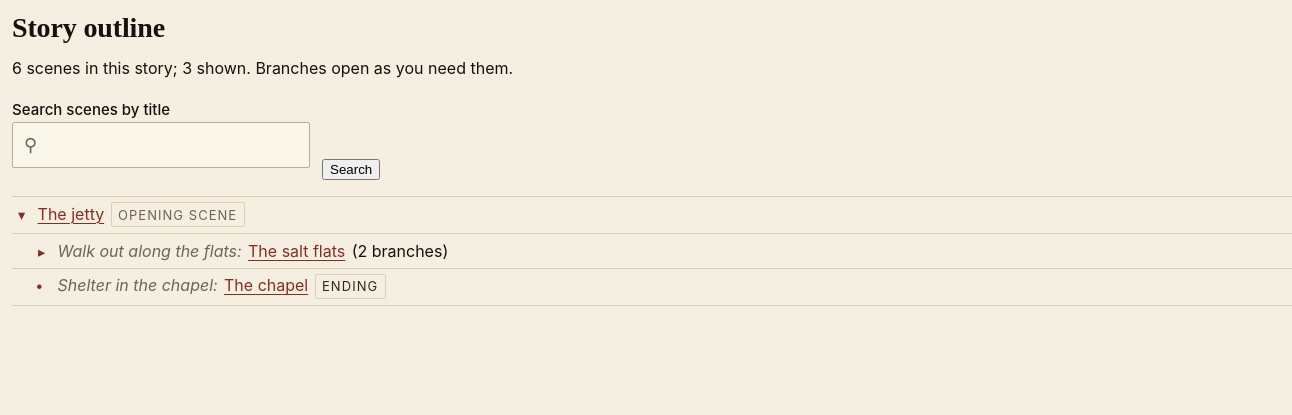
Test case: search › lists matches with the path back to the opening scene
The image size is (1292, 415).
Expected: the link "The jetty" is shown, [38,203,104,225]
Type "mile" into the search field with test id "outline-search-input".
click(161, 145); type("mile")  # box [12,122,310,168]
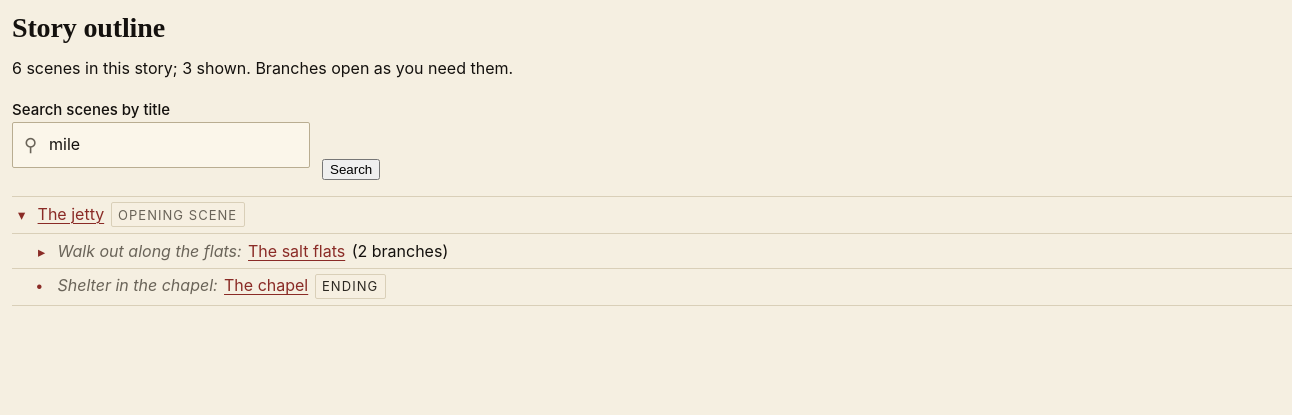
Click the button with test id "outline-search".
click(351, 169)  # box [322,159,380,180]
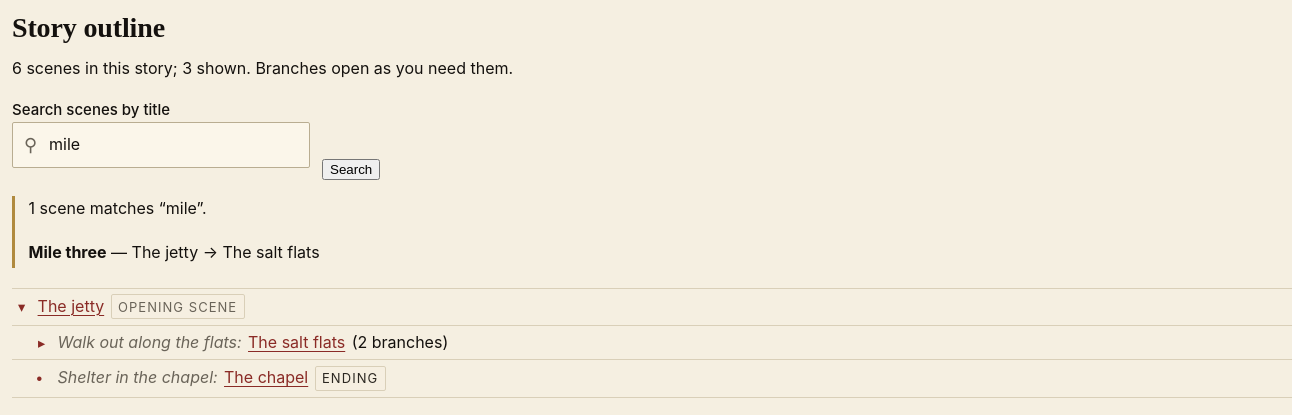
Expected: the list item with test id "outline-match" shows "Mile three", [29,242,107,262]
Expected: the list item with test id "outline-match" shows "The jetty → The salt flats", [132,242,320,262]
